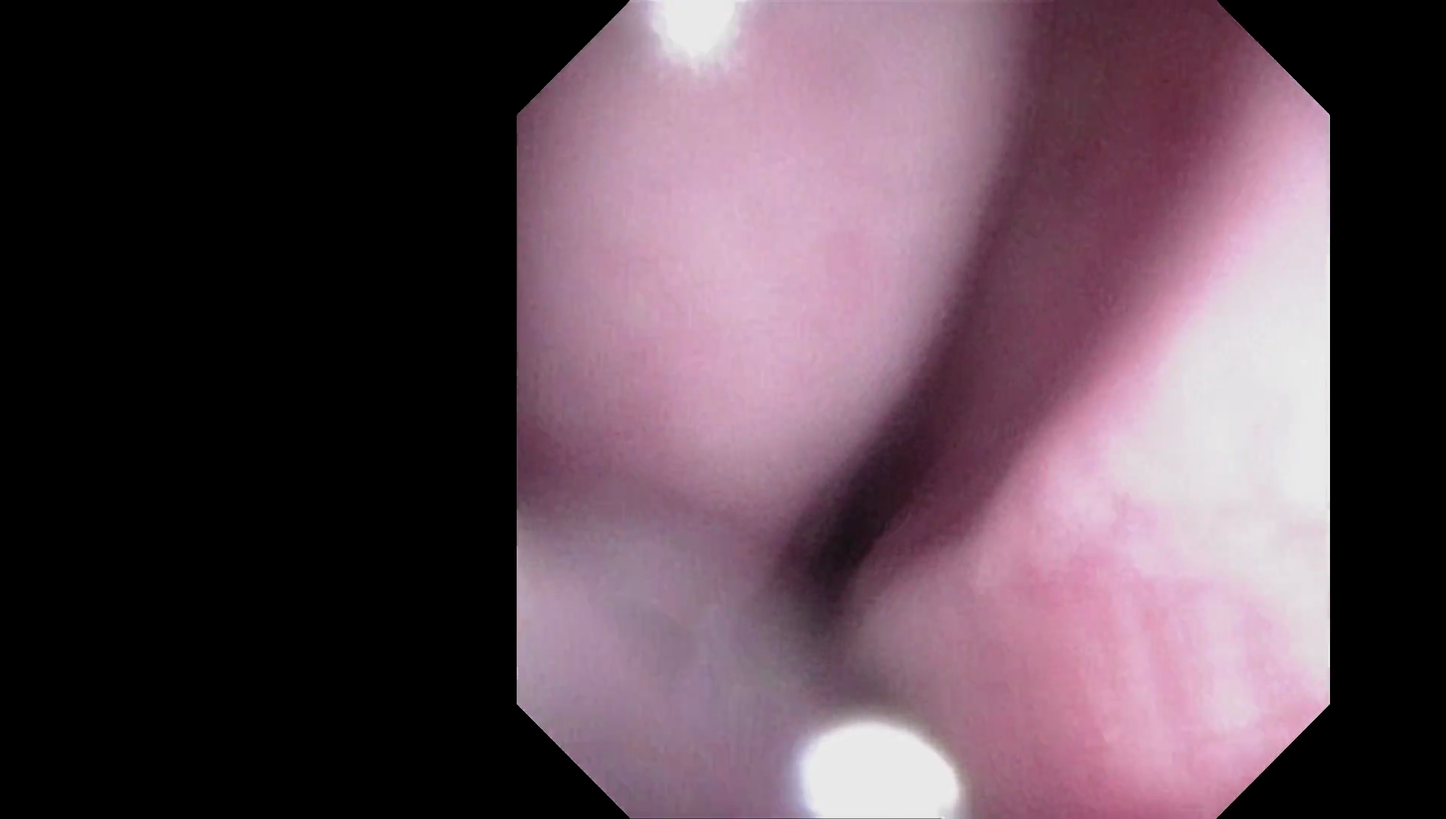close_wall: (1025, 124, 1318, 693), (635, 1, 915, 191)
next: (743, 351, 986, 645)
